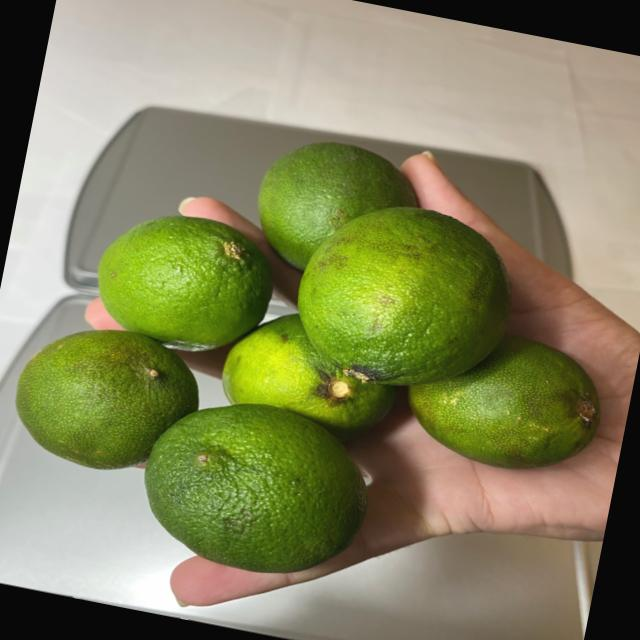lemon: (0, 93, 640, 634)
